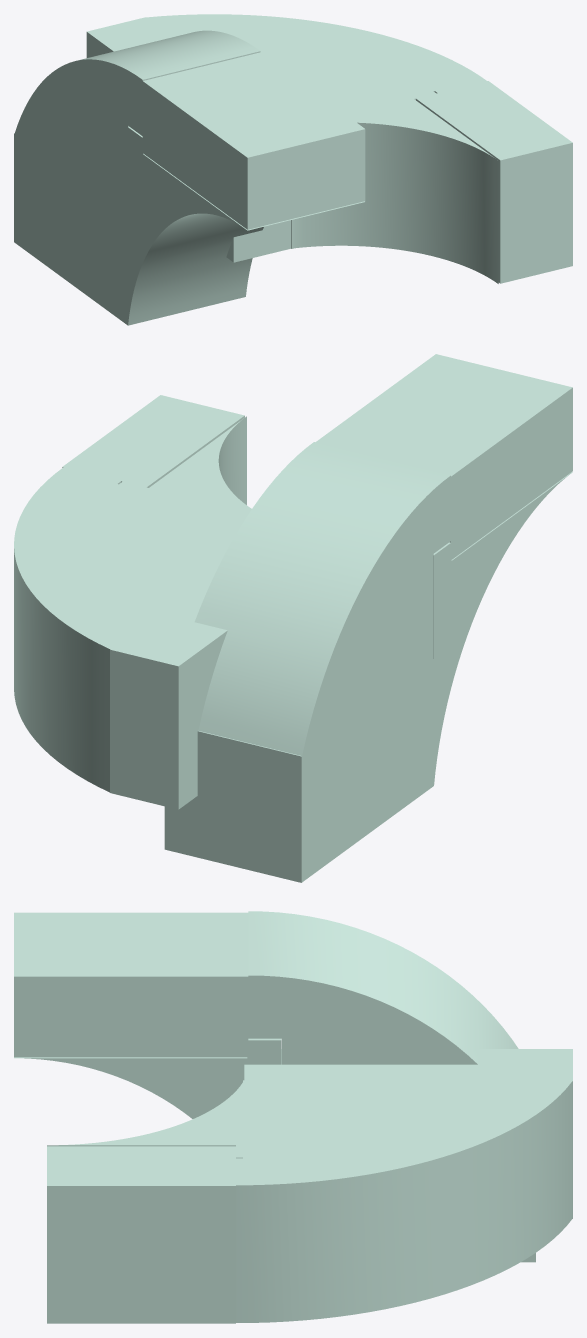
The picture shows the model from 3 angles, top to bottom: view 1: azimuth 30°, elevation 25°; view 2: azimuth 150°, elevation 25°; view 3: azimuth 270°, elevation 25°; orthographic projection. The views are drawn at different scales.
Visible parts, largest first — view 1: Renderer Node; view 2: Renderer Node; view 3: Renderer Node.
Boxes of the visible parts, left/top/right/bottom form: Renderer Node: left=14, top=14, right=572, bottom=325; Renderer Node: left=14, top=354, right=572, bottom=882; Renderer Node: left=14, top=911, right=572, bottom=1323.
Size of the model in its own units: 0.834 by 0.6012 by 1.06.
